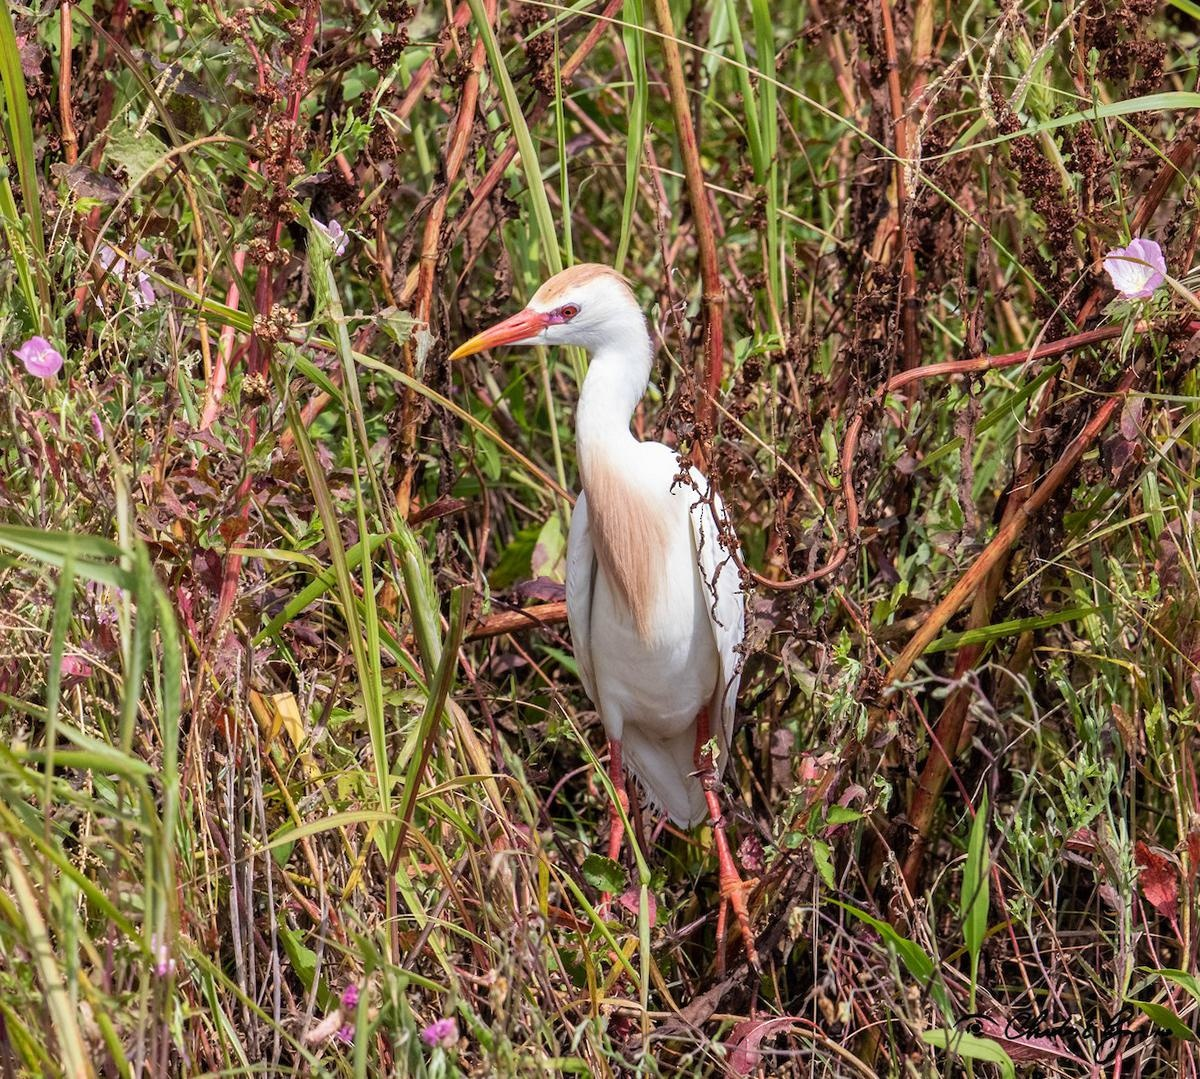egret: (441, 253, 807, 951)
